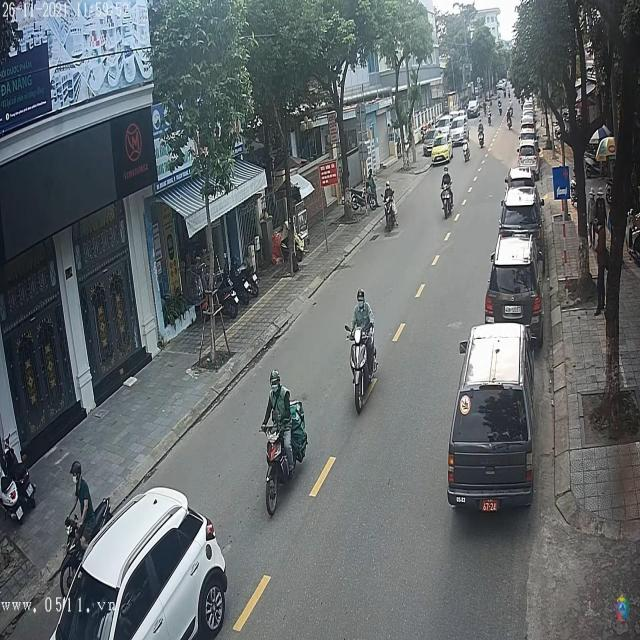car: (449, 326, 535, 512), (485, 233, 543, 339), (499, 186, 544, 238), (518, 145, 539, 171), (468, 99, 481, 117)
motorcycle: (264, 403, 310, 517), (345, 319, 379, 415), (440, 178, 456, 221), (382, 193, 398, 235)
